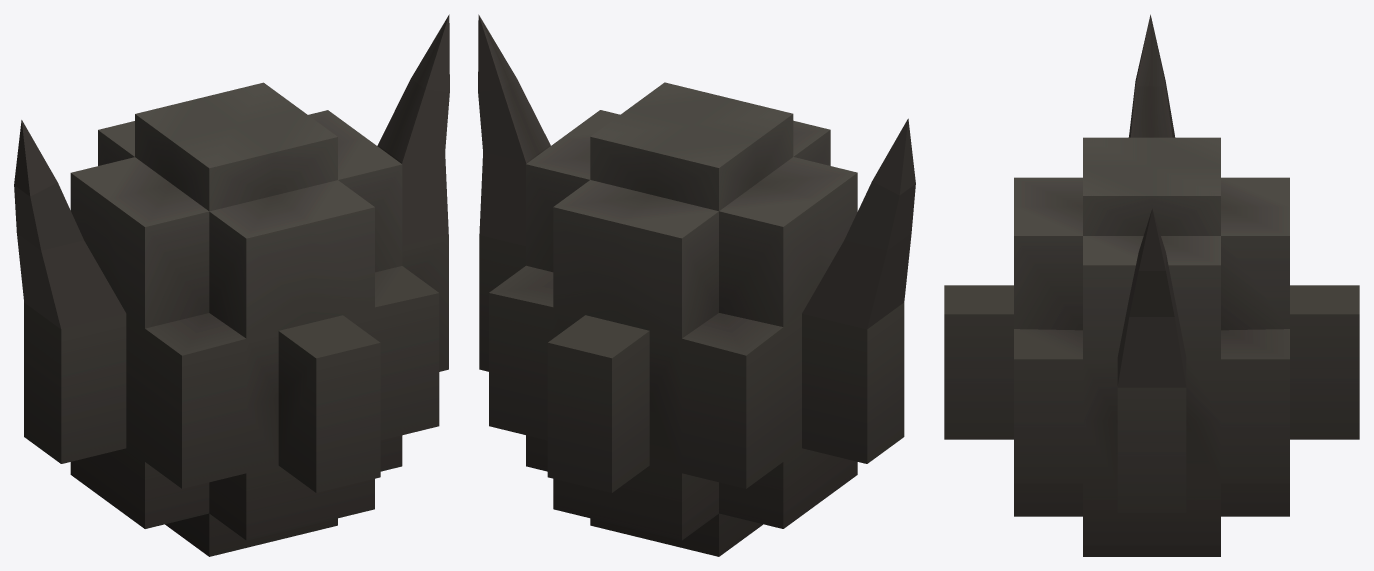
File: Egg Mythical.fbx
3 views of the same model, side by side, from view 1: azimuth 30°, elevation 25°; view 2: azimuth 150°, elevation 25°; view 3: azimuth 270°, elevation 25° (orthographic). The views are drawn at different scales.
Visible parts, largest first — view 1: Egg Mythical; view 2: Egg Mythical; view 3: Egg Mythical.
Boxes of the visible parts, x1,y1,x2,y2 form: Egg Mythical: (14,14,449,556); Egg Mythical: (478,14,915,556); Egg Mythical: (944,14,1359,556).
Size of the model in its own units: 6.44 by 6.43 by 5.82.
